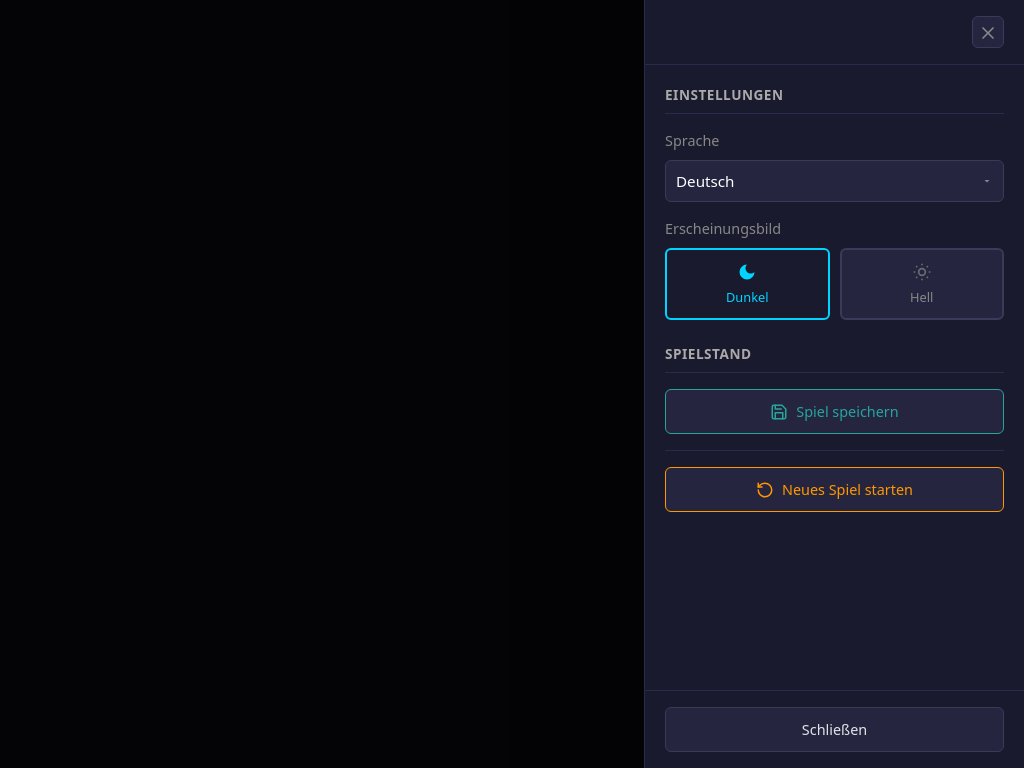
Test case: SettingsSidebar › reset game › should show confirmation dialog when clicking reset button
Click the button "Neues Spiel starten": click(834, 490) [665,467,1004,512]
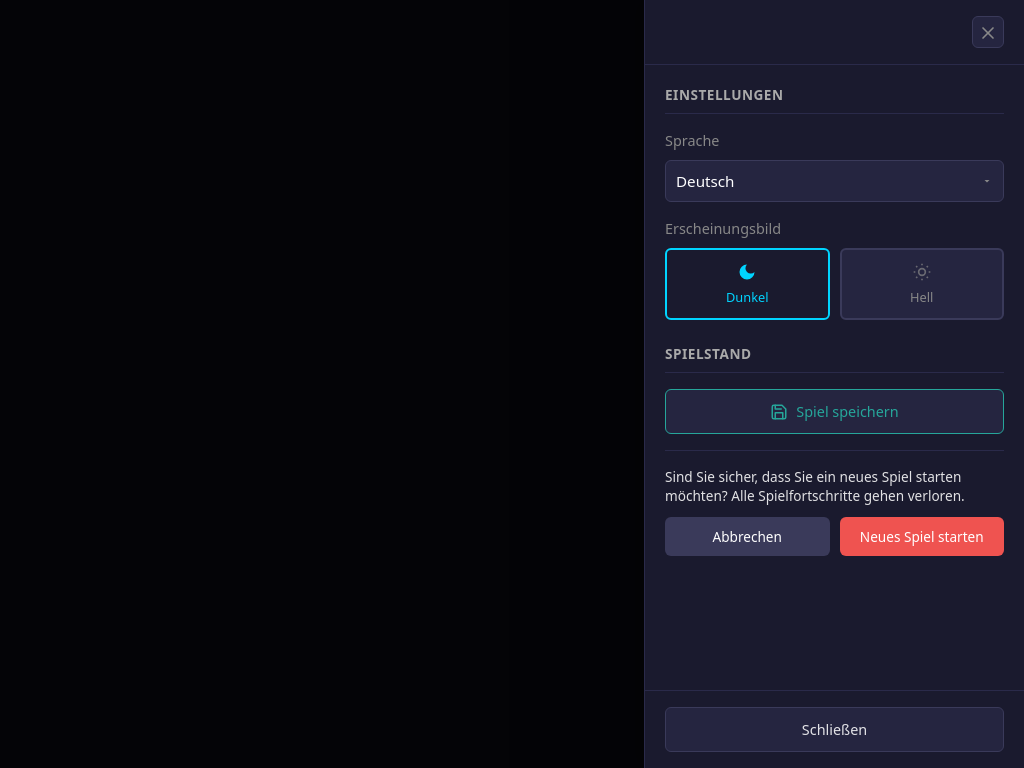
Check: the text "Sind Sie sicher, dass Sie ein neues Spiel starten möchten? Alle Spielfortschritte gehen verloren." is shown, box [665,467,965,505]
Check: the button "Abbrechen" is shown, box [665,517,830,556]
